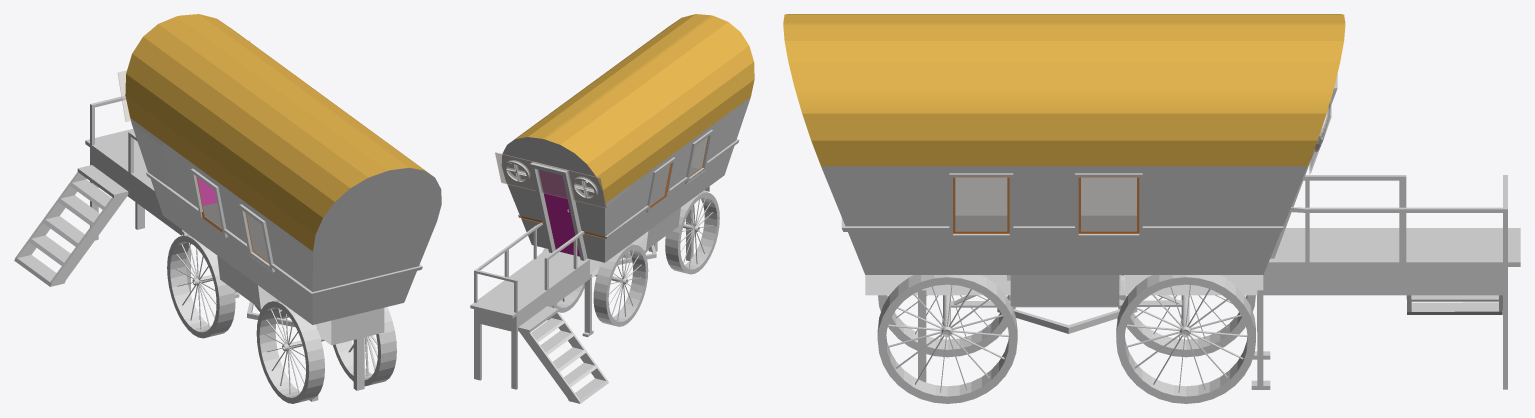
The model's file is Trailer Interior.fbx.
3 views of the same model, side by side, from view 1: azimuth 30°, elevation 25°; view 2: azimuth 150°, elevation 25°; view 3: azimuth 270°, elevation 25° (orthographic). The views are drawn at different scales.
Parts seen in each view (by area): view 1: polySurface77; view 2: polySurface77; view 3: polySurface77.
Part boxes in pixels (x1,y1,x2,y2): polySurface77: [14, 14, 441, 403]; polySurface77: [470, 14, 754, 403]; polySurface77: [783, 14, 1520, 403].
Size of the model in its own units: 1512 by 2230 by 4239.
